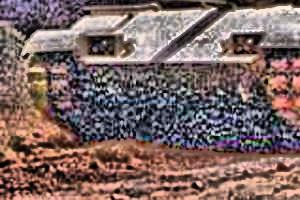tanks: (24, 1, 300, 153)
